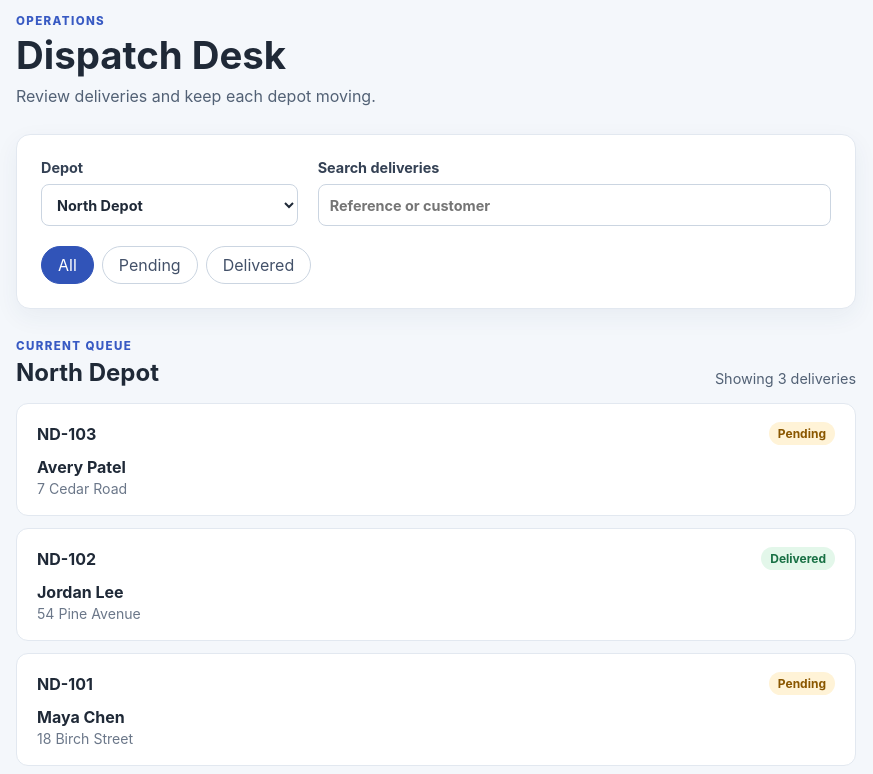
Test: dispatch dashboard › filters the current depot by status and search
Step 1. Click the button "Pending" → (150, 265), box x1=102 y1=246 x2=198 y2=284
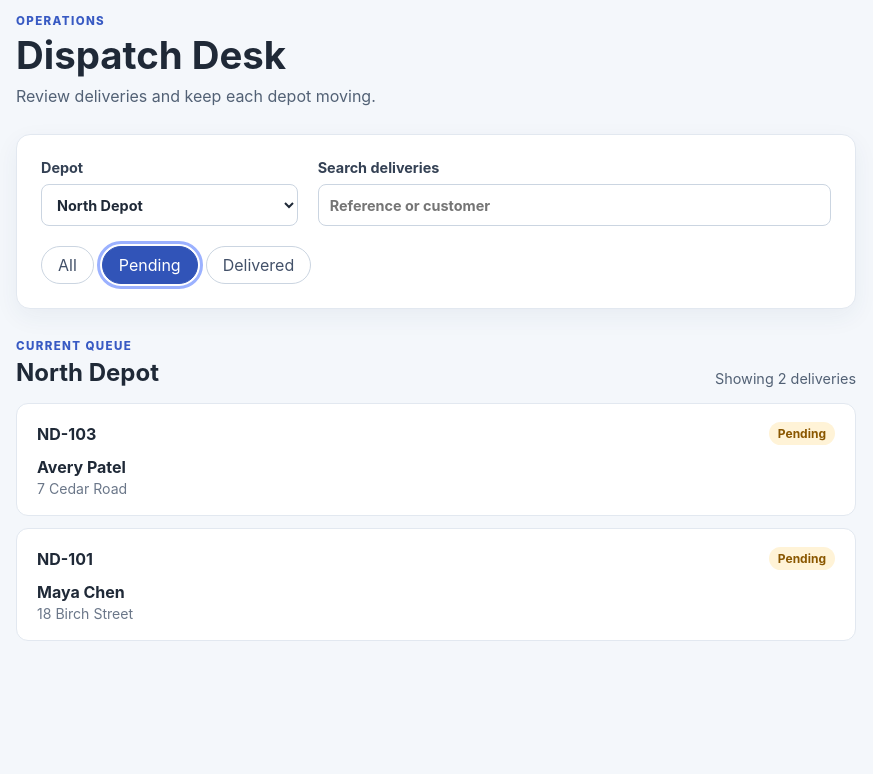
Expected: the text "ND-101" is shown, x1=37 y1=548 x2=93 y2=568
Expected: the text "Showing 2 deliveries" is shown, x1=715 y1=370 x2=856 y2=387
Expected: the text "ND-102" is gone
Step 2. Type "maya" into the search field labelled "Search deliveries" → (574, 205), box x1=318 y1=184 x2=831 y2=226
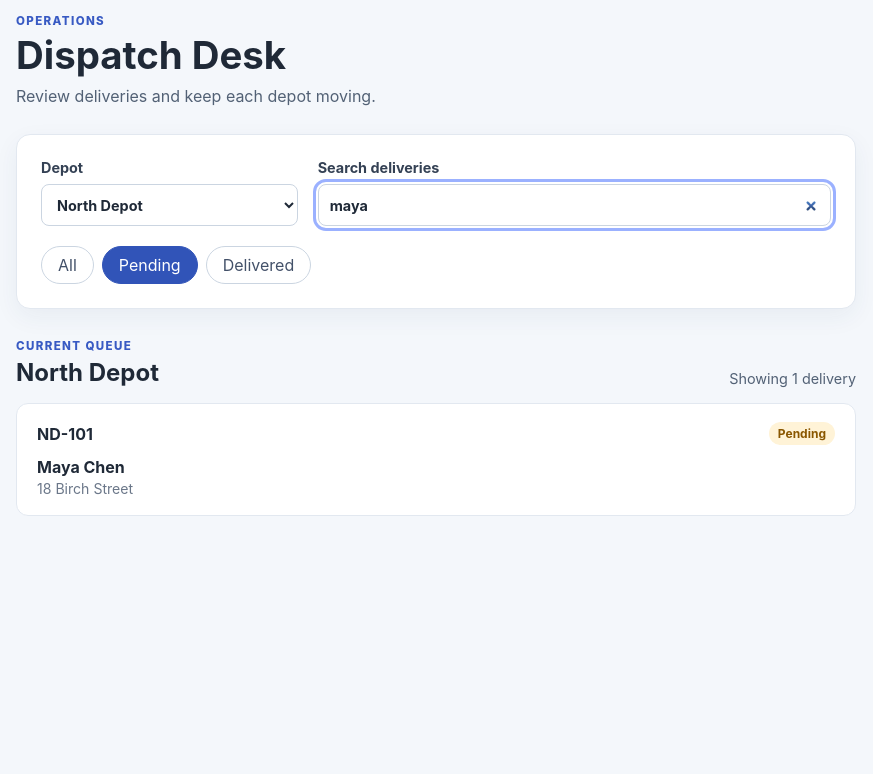
Expected: the text "ND-101" is shown, x1=37 y1=424 x2=93 y2=444
Expected: the text "Showing 1 delivery" is shown, x1=729 y1=370 x2=856 y2=387
Expected: the text "ND-103" is gone
